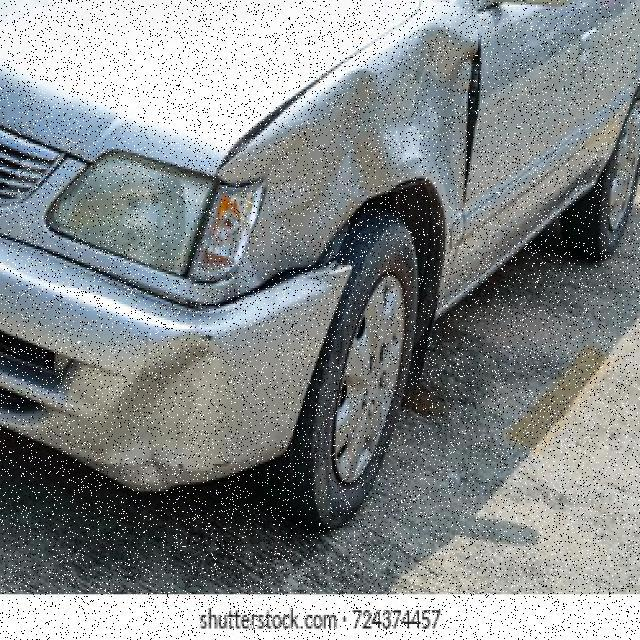fender-dent: (249, 55, 468, 274)
front-bumper-dent: (1, 283, 326, 496)
